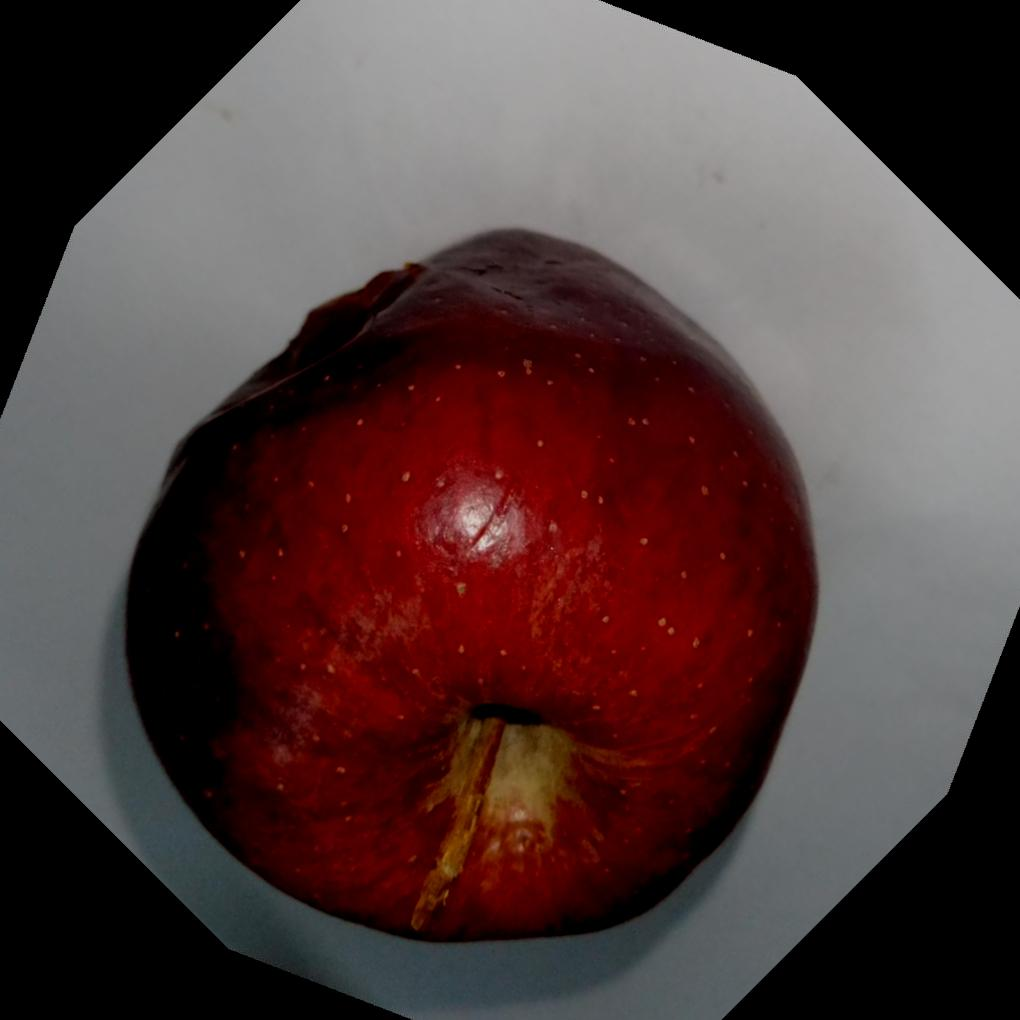FreshOrange: (120, 224, 820, 943)
